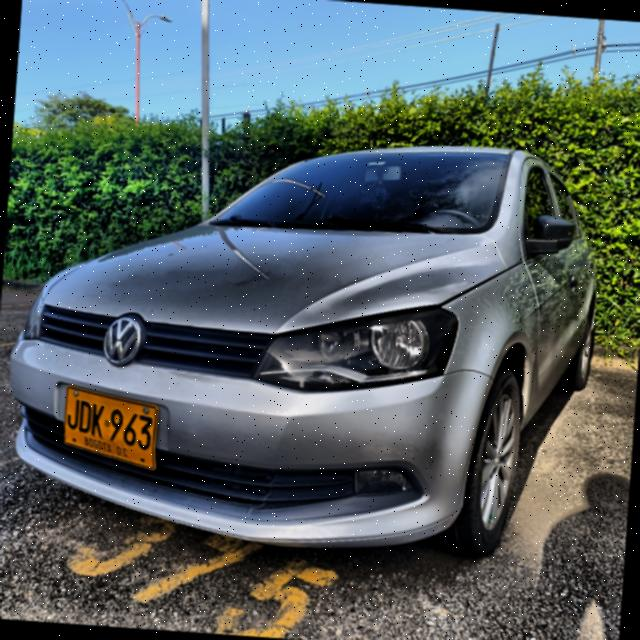plate: (65, 387, 156, 468)
